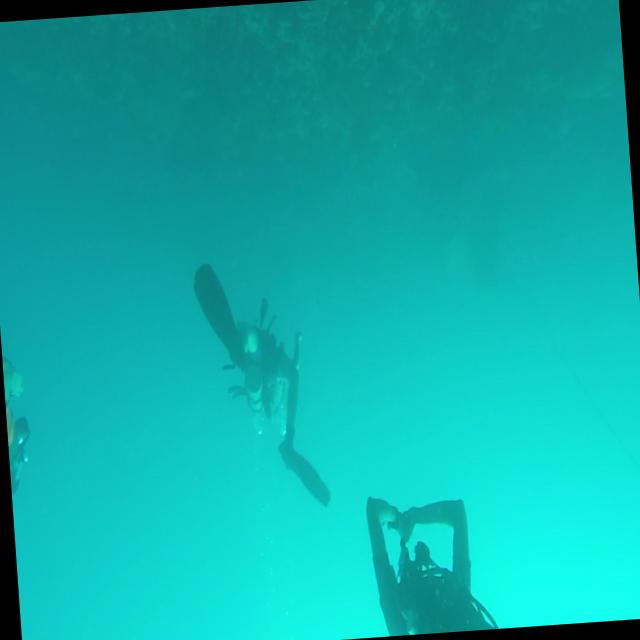human: (191, 255, 331, 518), (364, 488, 498, 637), (0, 334, 34, 501)
